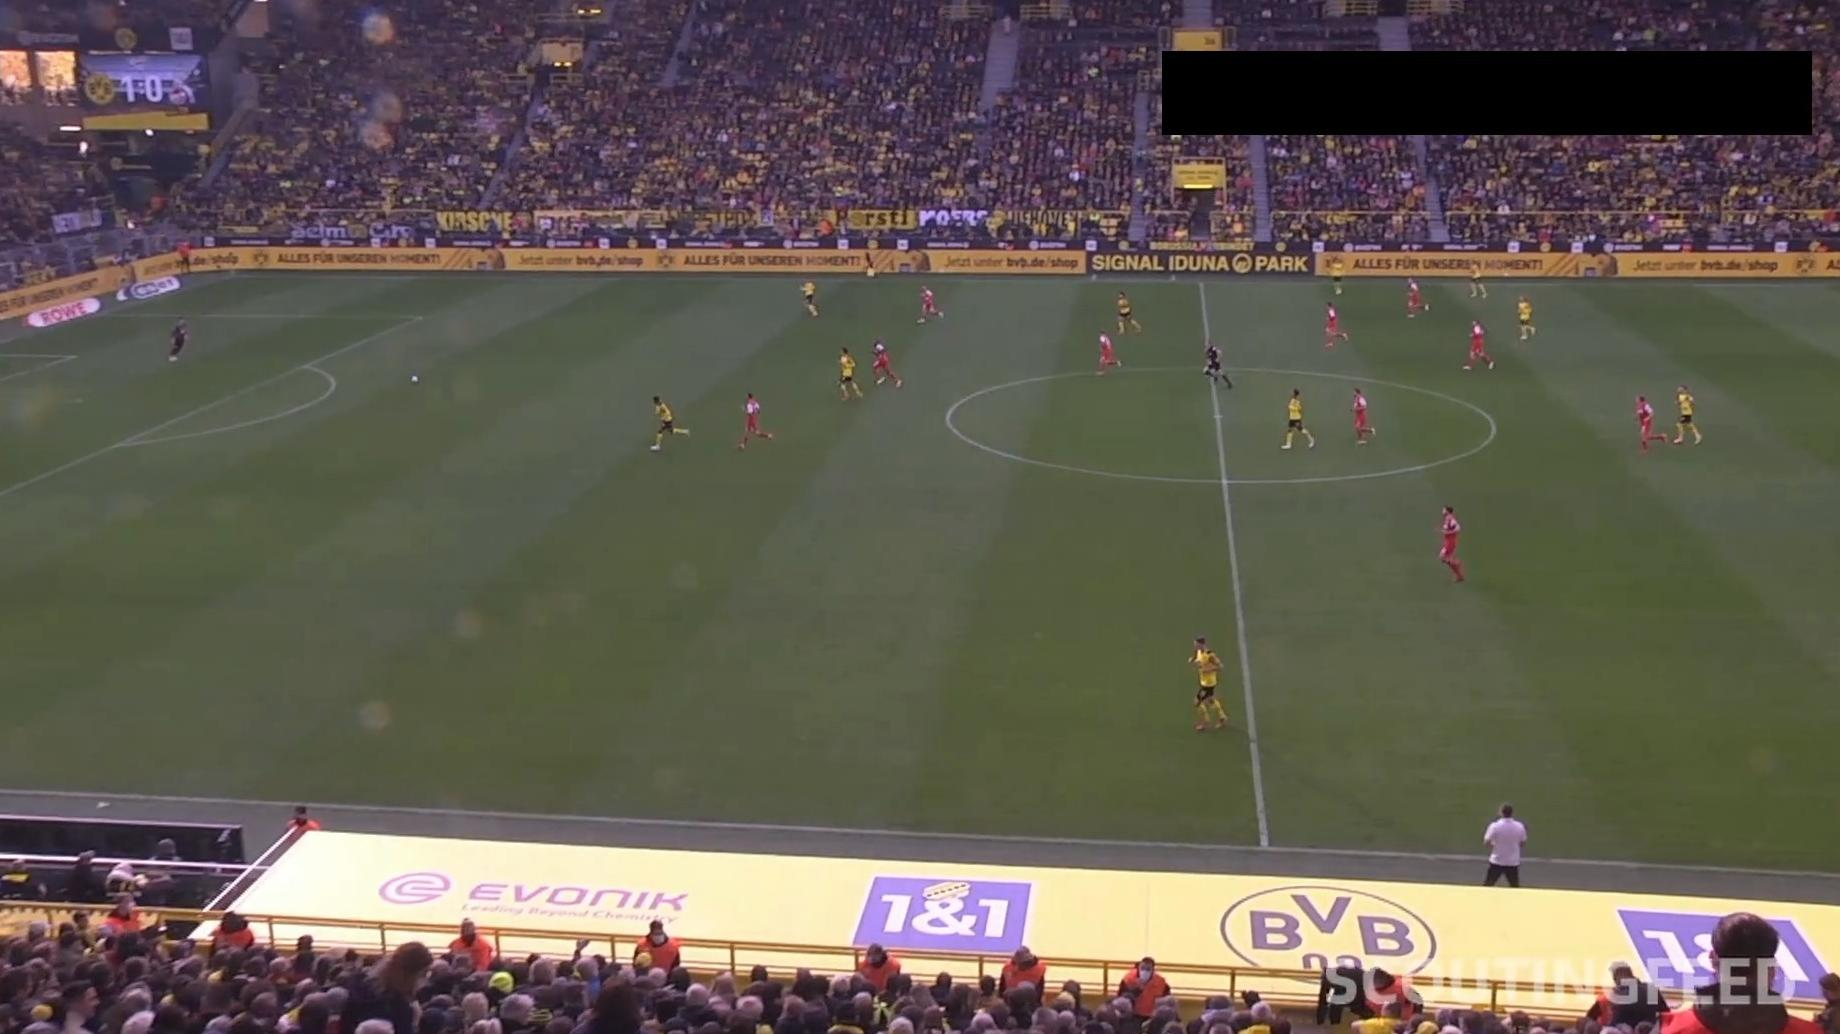ball: (409, 374, 421, 384)
